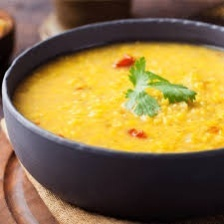dal: (8, 31, 224, 163)
